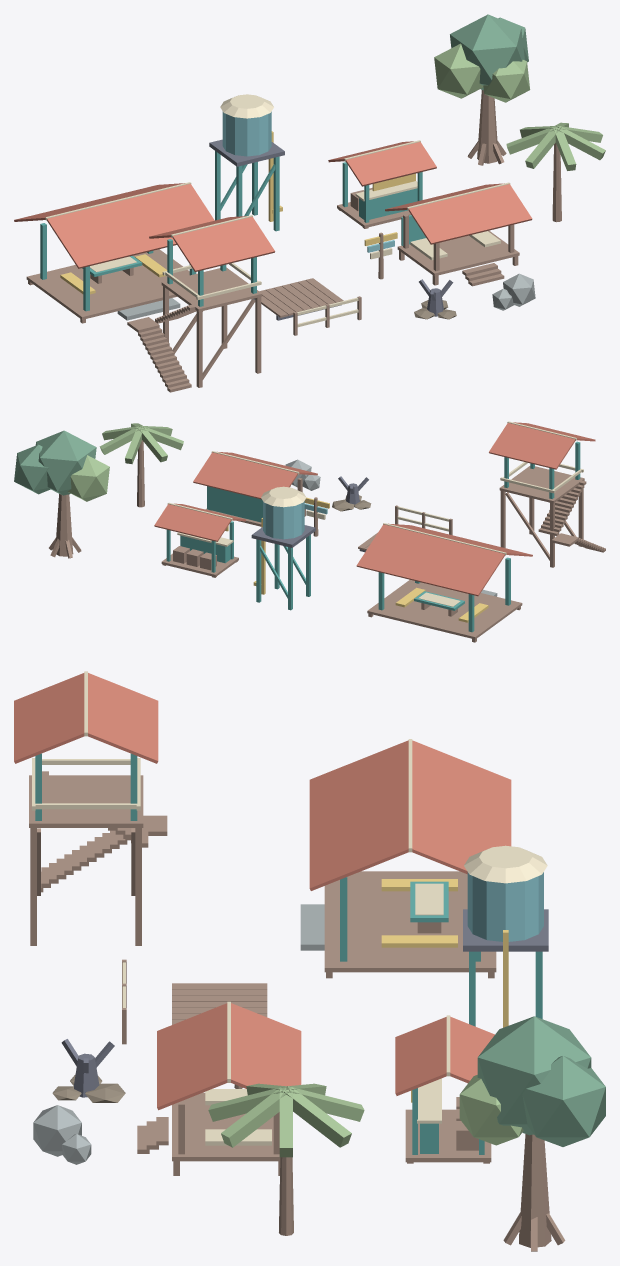
Rendered from Kem_Bomba_Rimba_Roblox.fbx.
The picture shows the model from 3 angles, top to bottom: view 1: azimuth 30°, elevation 25°; view 2: azimuth 150°, elevation 25°; view 3: azimuth 270°, elevation 25°; orthographic projection. The views are drawn at different scales.
Visible parts, largest first — view 1: 01_CommandPavilion__roof, 07_LookoutTower__wood, 01_CommandPavilion__wood, 04_RescueShelter__roof, 07_LookoutTower__roof, 04_RescueShelter__wood, 09_ButtressTree__leaf, 09_ButtressTree__lightleaf, 03_SupplyKiosk__roof, 10_Palm__lightleaf, 05_Boardwalk_12x10__wood, 02_WaterTower__teal (+17 smaller); view 2: 01_CommandPavilion__roof, 07_LookoutTower__wood, 01_CommandPavilion__wood, 09_ButtressTree__leaf, 04_RescueShelter__roof, 07_LookoutTower__roof, 03_SupplyKiosk__roof, 10_Palm__lightleaf, 02_WaterTower__teal, 02_WaterTower__water, 04_RescueShelter__teal, 09_ButtressTree__lightleaf (+16 smaller); view 3: 01_CommandPavilion__roof, 09_ButtressTree__leaf, 01_CommandPavilion__wood, 04_RescueShelter__roof, 07_LookoutTower__wood, 07_LookoutTower__roof, 10_Palm__lightleaf, 04_RescueShelter__wood, 03_SupplyKiosk__roof, 02_WaterTower__water, 09_ButtressTree__wood, 05_Boardwalk_12x10__wood (+18 smaller).
Boxes of the visible parts, box(x1,y1,x2,y2) form: 01_CommandPavilion__roof: box(14, 183, 214, 268); 07_LookoutTower__wood: box(127, 267, 262, 392); 01_CommandPavilion__wood: box(26, 249, 189, 323); 04_RescueShelter__roof: box(385, 183, 532, 244); 07_LookoutTower__roof: box(149, 216, 275, 271); 04_RescueShelter__wood: box(397, 214, 519, 286); 09_ButtressTree__leaf: box(450, 14, 528, 90); 09_ButtressTree__lightleaf: box(434, 43, 530, 102); 03_SupplyKiosk__roof: box(328, 141, 436, 186); 10_Palm__lightleaf: box(506, 122, 605, 170); 05_Boardwalk_12x10__wood: box(254, 278, 343, 317); 02_WaterTower__teal: box(215, 151, 279, 231); 01_CommandPavilion__roof: box(356, 523, 532, 596); 07_LookoutTower__wood: box(499, 466, 605, 567); 01_CommandPavilion__wood: box(367, 580, 522, 642); 09_ButtressTree__leaf: box(14, 430, 96, 495); 04_RescueShelter__roof: box(193, 451, 317, 499); 07_LookoutTower__roof: box(489, 422, 595, 469); 03_SupplyKiosk__roof: box(154, 503, 245, 541); 10_Palm__lightleaf: box(99, 423, 183, 464); 02_WaterTower__teal: box(256, 534, 310, 610); 02_WaterTower__water: box(263, 501, 304, 539); 04_RescueShelter__teal: box(207, 486, 262, 522); 09_ButtressTree__lightleaf: box(67, 455, 109, 501); 01_CommandPavilion__roof: box(309, 740, 511, 890); 09_ButtressTree__leaf: box(477, 1016, 605, 1146); 01_CommandPavilion__wood: box(324, 871, 496, 978); 04_RescueShelter__roof: box(157, 1003, 301, 1110); 07_LookoutTower__wood: box(29, 771, 167, 945); 07_LookoutTower__roof: box(14, 673, 158, 763); 10_Palm__lightleaf: box(208, 1083, 364, 1157); 04_RescueShelter__wood: box(137, 1092, 280, 1175); 03_SupplyKiosk__roof: box(395, 1016, 494, 1095); 02_WaterTower__water: box(467, 872, 543, 941); 09_ButtressTree__wood: box(503, 1134, 565, 1251); 05_Boardwalk_12x10__wood: box(172, 983, 267, 1024).
Size of the model in its own units: 99.34 by 27 by 62.08.
